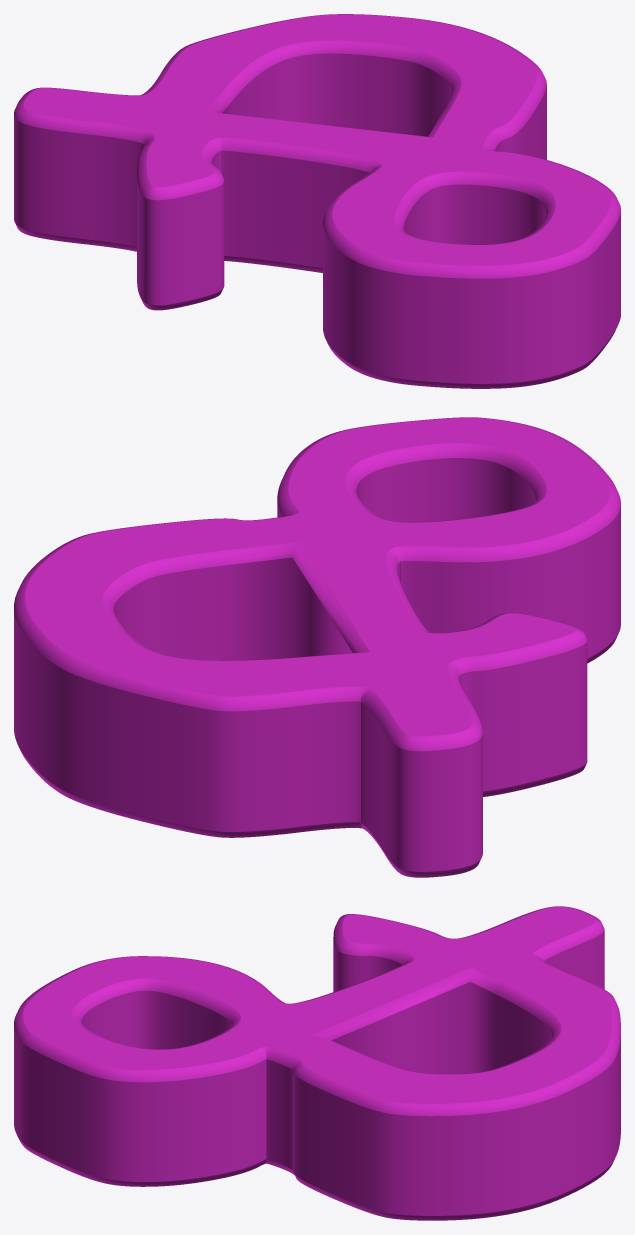
File: Blocky_Ambersand.fbx
The picture shows the model from 3 angles, top to bottom: view 1: azimuth 30°, elevation 25°; view 2: azimuth 150°, elevation 25°; view 3: azimuth 270°, elevation 25°; orthographic projection. The views are drawn at different scales.
Parts seen in each view (by area): view 1: BlockyAmbersand; view 2: BlockyAmbersand; view 3: BlockyAmbersand.
Boxes of the visible parts, x1=… form: BlockyAmbersand: x1=14, y1=14, x2=620, y2=388; BlockyAmbersand: x1=14, y1=417, x2=620, y2=877; BlockyAmbersand: x1=14, y1=906, x2=620, y2=1220.
Size of the model in its own units: 0.5292 by 0.14 by 0.6617.
